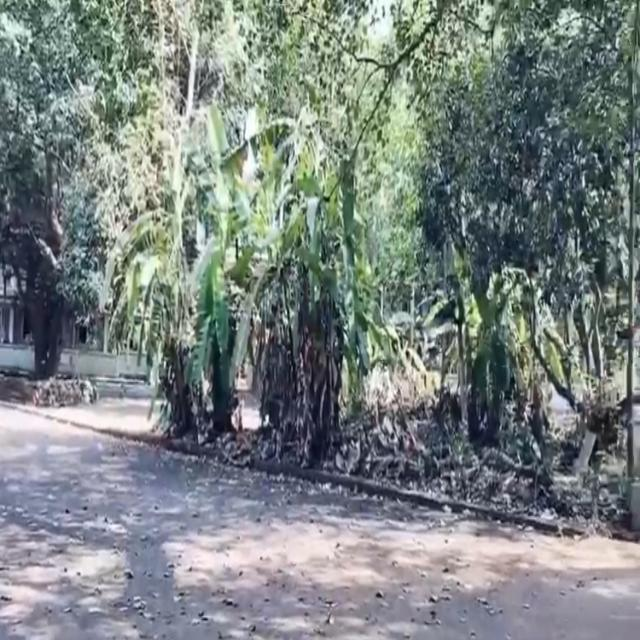tree ahead at: (82, 93, 370, 473)
